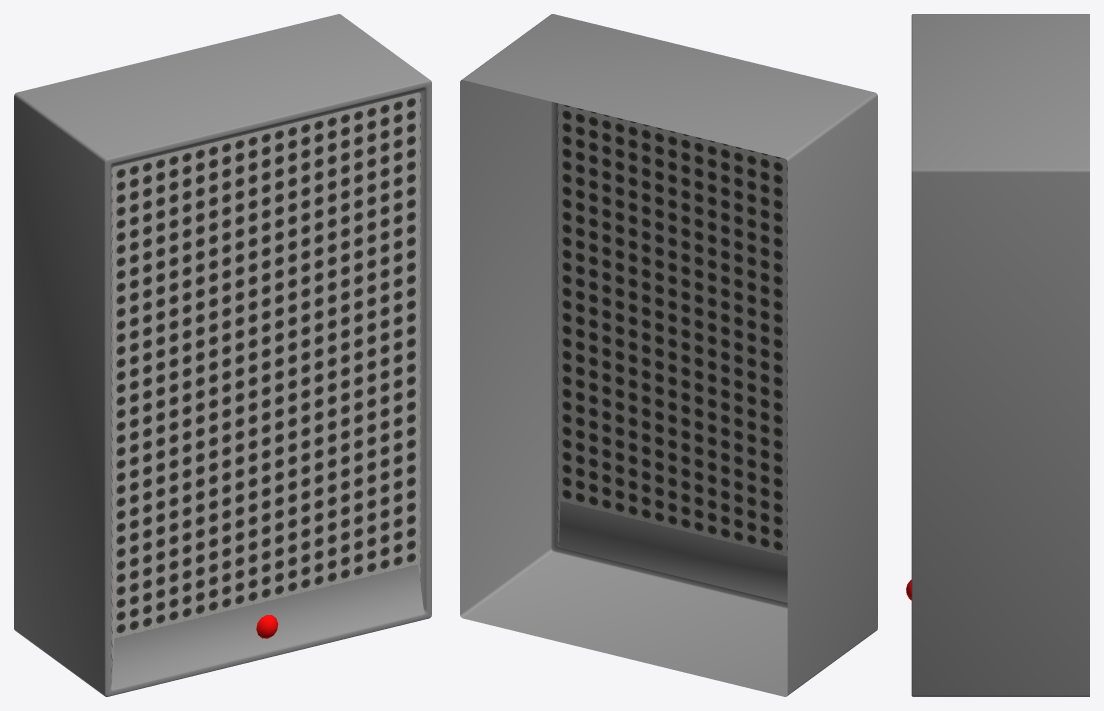
File: speaker.glb
3 views of the same model, side by side, from view 1: azimuth 30°, elevation 25°; view 2: azimuth 150°, elevation 25°; view 3: azimuth 270°, elevation 25° (orthographic).
Visible parts, largest first — view 1: Cube.007; view 2: Cube.007; view 3: Cube.007.
Boxes of the visible parts, <box> form: Cube.007: <box>14,14,431,696</box>; Cube.007: <box>460,14,877,696</box>; Cube.007: <box>906,14,1089,696</box>.
Bounding box in the file's own units: 0.5098 × 0.8006 × 0.2525.
Materials: 3 (1 with a texture image).
